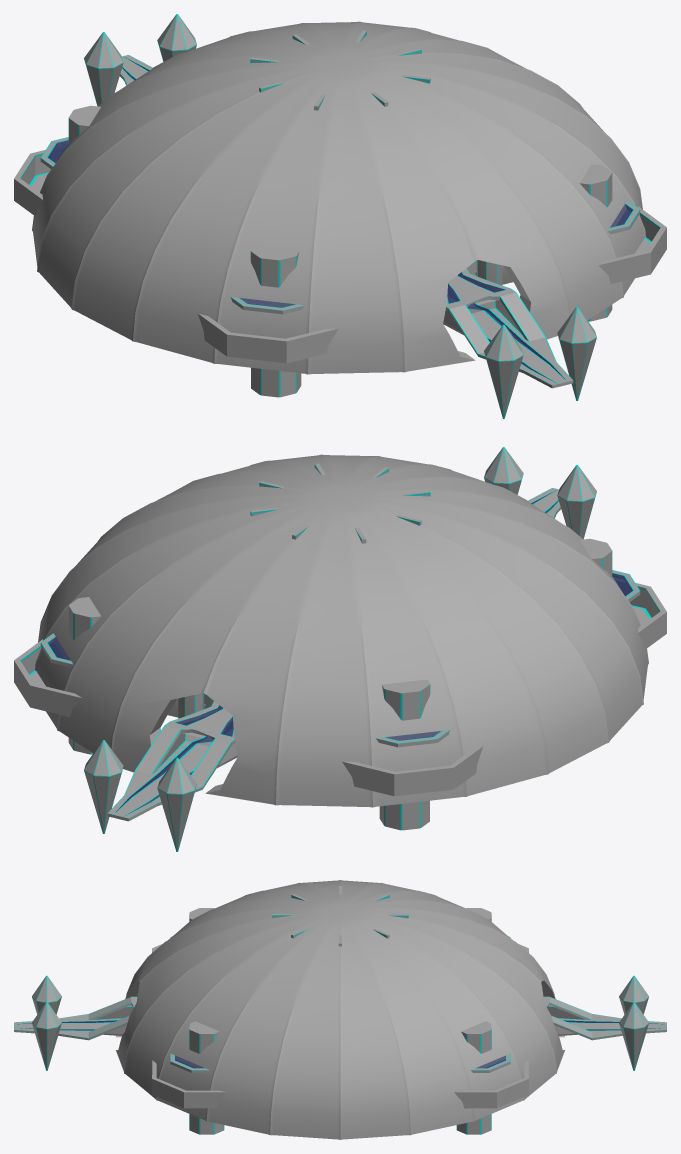
The model's file is Noah_Lv2.fbx.
3 renders of one model, top to bottom at view 1: azimuth 30°, elevation 25°; view 2: azimuth 150°, elevation 25°; view 3: azimuth 270°, elevation 25°, orthographic. The views are drawn at different scales.
Parts seen in each view (by area): view 1: pSphere8, pSphere9, pCylinder65 (×2), pCylinder10 (×2), polySurface27 (×2), pCylinder72 (×2), pCylinder71, pasted__polySurface10, pasted__polySurface1, polySurface68, polySurface65, polySurface14 (+1 smaller); view 2: pSphere9, pSphere8, pCylinder65 (×2), pCylinder10 (×2), polySurface27 (×2), pCylinder72 (×2), pCylinder71, pasted__polySurface10, pasted__polySurface1, polySurface68, polySurface65, polySurface14 (+1 smaller); view 3: pSphere9, pSphere8, pCylinder71 (×2), polySurface68 (×2), pCylinder72 (×2), pCylinder10 (×2), pasted__polySurface7 (×2), pasted__polySurface10 (×2), pasted__polySurface1 (×2).
Boxes of the visible parts, left/top/right/bottom form: pSphere8: left=72, top=52, right=645, bottom=374; pSphere9: left=32, top=21, right=526, bottom=308; pCylinder65 (×2): left=14, top=150, right=338, bottom=363; pCylinder10 (×2): left=84, top=32, right=523, bottom=418; polySurface27 (×2): left=68, top=105, right=301, bottom=397; pCylinder72 (×2): left=157, top=14, right=596, bottom=400; pCylinder71: left=598, top=206, right=666, bottom=283; pasted__polySurface10: left=467, top=260, right=573, bottom=384; pasted__polySurface1: left=468, top=308, right=567, bottom=386; polySurface68: left=579, top=164, right=612, bottom=321; polySurface65: left=500, top=292, right=545, bottom=341; polySurface14: left=449, top=305, right=489, bottom=356; pSphere9: left=35, top=485, right=608, bottom=807; pSphere8: left=154, top=454, right=648, bottom=741; pCylinder65 (×2): left=342, top=583, right=666, bottom=796; pCylinder10 (×2): left=157, top=465, right=596, bottom=851; polySurface27 (×2): left=379, top=538, right=612, bottom=830; pCylinder72 (×2): left=84, top=447, right=523, bottom=833; pCylinder71: left=14, top=639, right=82, bottom=716; pasted__polySurface10: left=107, top=693, right=213, bottom=817; pasted__polySurface1: left=113, top=741, right=212, bottom=819; polySurface68: left=68, top=597, right=101, bottom=754; polySurface65: left=135, top=725, right=180, bottom=774; polySurface14: left=191, top=738, right=231, bottom=789; pSphere9: left=340, top=880, right=564, bottom=1139; pSphere8: left=116, top=880, right=340, bottom=1139; pCylinder71 (×2): left=152, top=1060, right=528, bottom=1108; polySurface68 (×2): left=189, top=1021, right=491, bottom=1134; pCylinder72 (×2): left=32, top=1002, right=648, bottom=1070; pCylinder10 (×2): left=32, top=975, right=648, bottom=1014; pasted__polySurface7 (×2): left=14, top=1006, right=666, bottom=1024; pasted__polySurface10 (×2): left=14, top=1025, right=666, bottom=1040; pasted__polySurface1 (×2): left=14, top=1022, right=666, bottom=1030.
Bounding box in the file's own units: 366 × 169 × 525.
